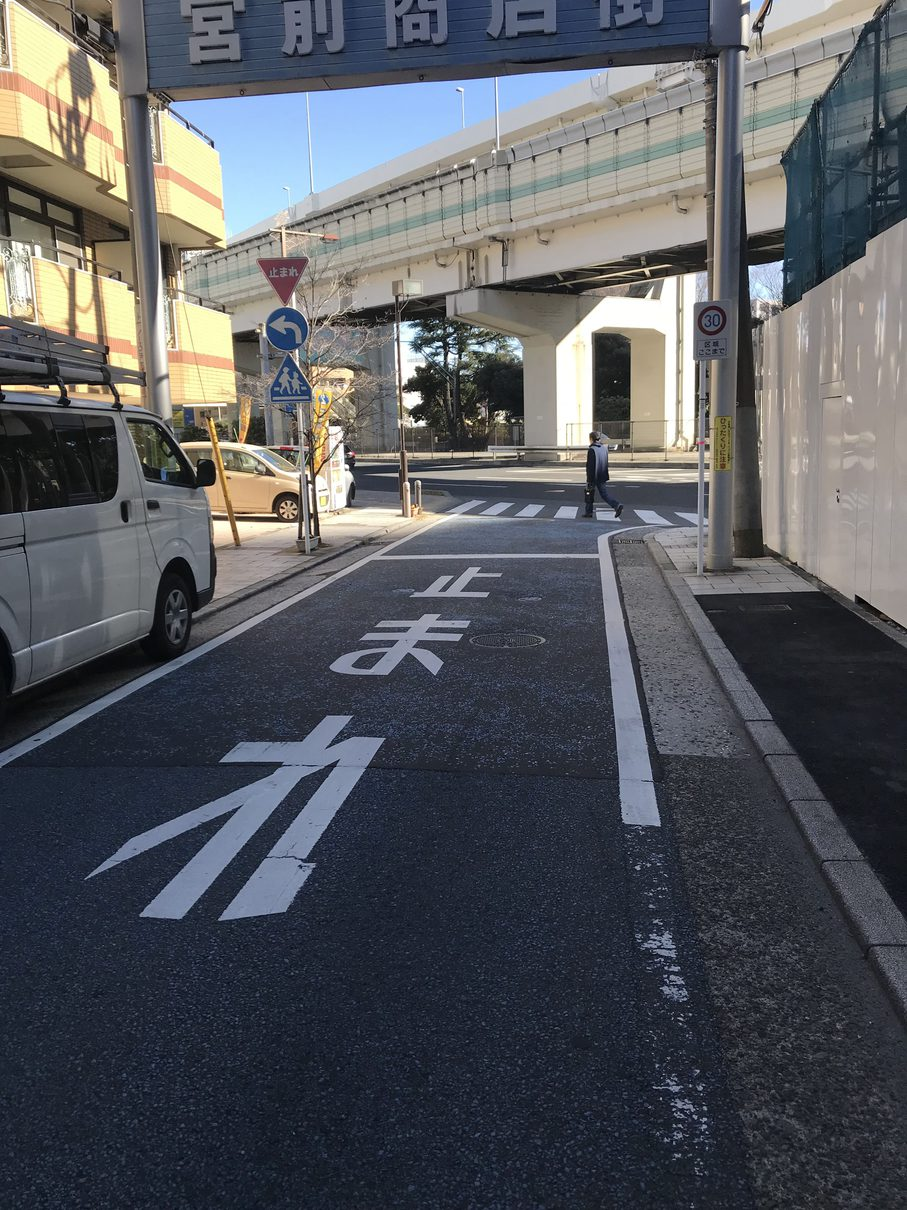stop_sign: (255, 254, 310, 306)
